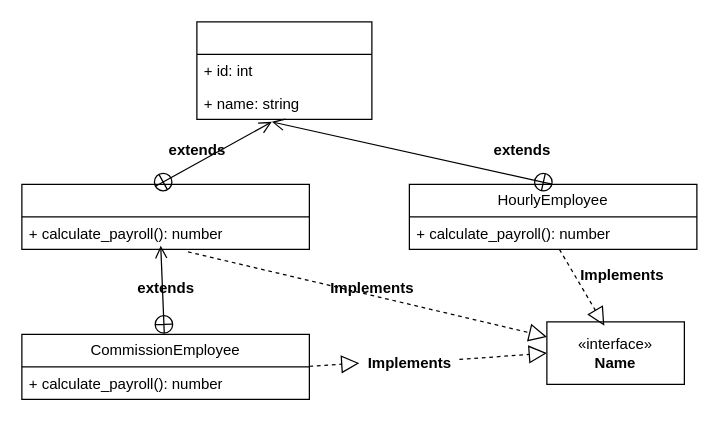
Image size: 719x425. Some labels were removed from this diagram. Here are the shapes that lost their labels. From the top down, the box of each, then its label:
(196, 21, 372, 119): Employee
(21, 183, 309, 249): SalaryEmployee
